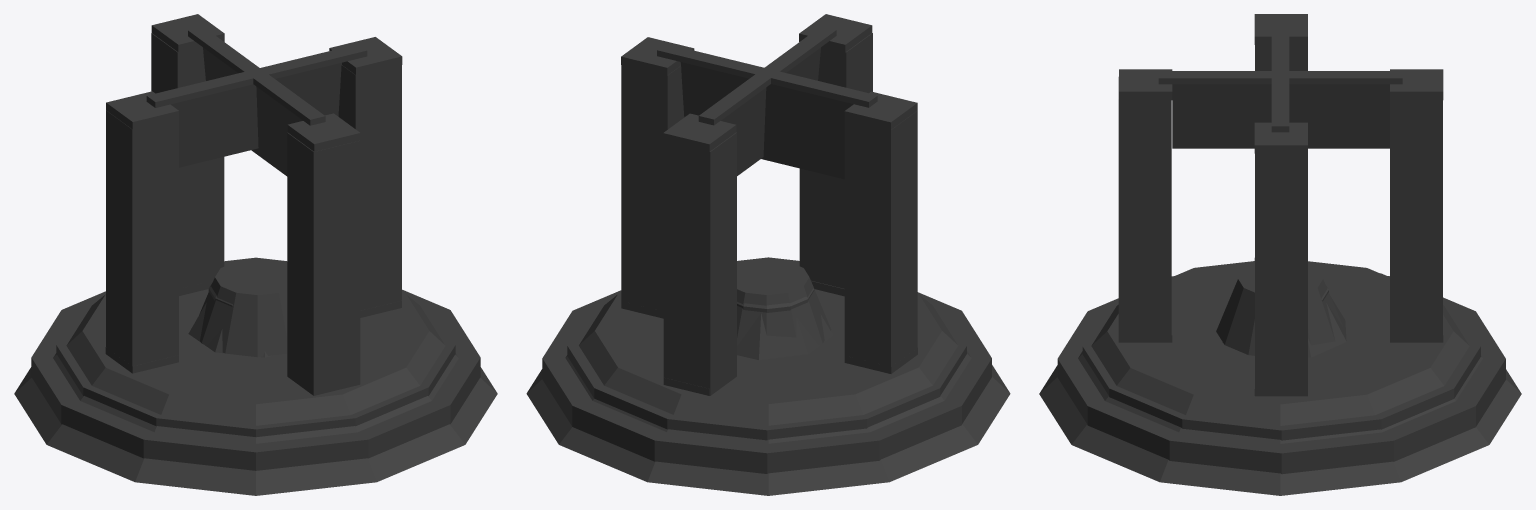
The model's file is templeruin_02.glb.
3 renders of one model, left to right at view 1: azimuth 30°, elevation 25°; view 2: azimuth 150°, elevation 25°; view 3: azimuth 270°, elevation 25°, orthographic.
Parts seen in each view (by area): view 1: geometry_0; view 2: geometry_0; view 3: geometry_0.
Boxes of the visible parts, box(x1,y1,x2,y2) form: geometry_0: box(14, 14, 497, 495); geometry_0: box(526, 14, 1010, 495); geometry_0: box(1039, 14, 1521, 495).
Size of the model in its own units: 14.32 by 10.47 by 14.32.
1 material, 1 textured.
